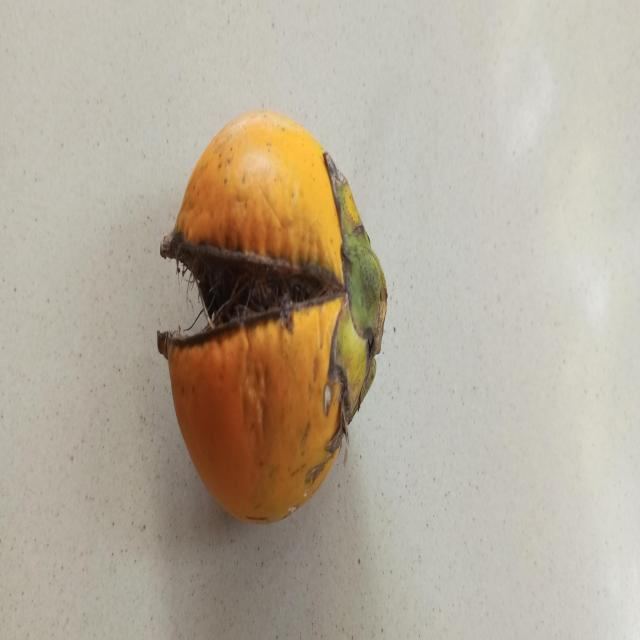damaged: (156, 110, 390, 525)
